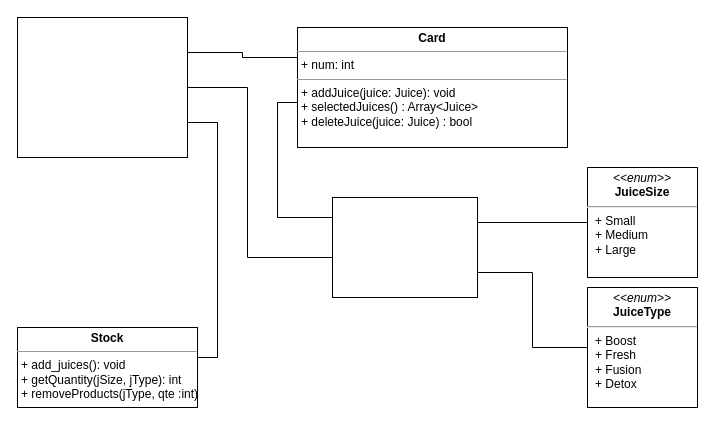
Image size: 715x425. Some labels were removed from this diagram. Each missing label, with the centre of its shape:
"Bardmaid + pay(value: int): void + validate() : void + displayInvoice (): void" goes at pixel 102 87.
"Juice + getType(): JuiceType + getSize(): JuiceSize + getName() : str" goes at pixel 405 247.
